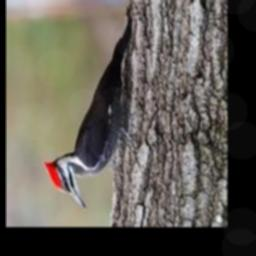Woodpecker: (43, 9, 136, 210)
